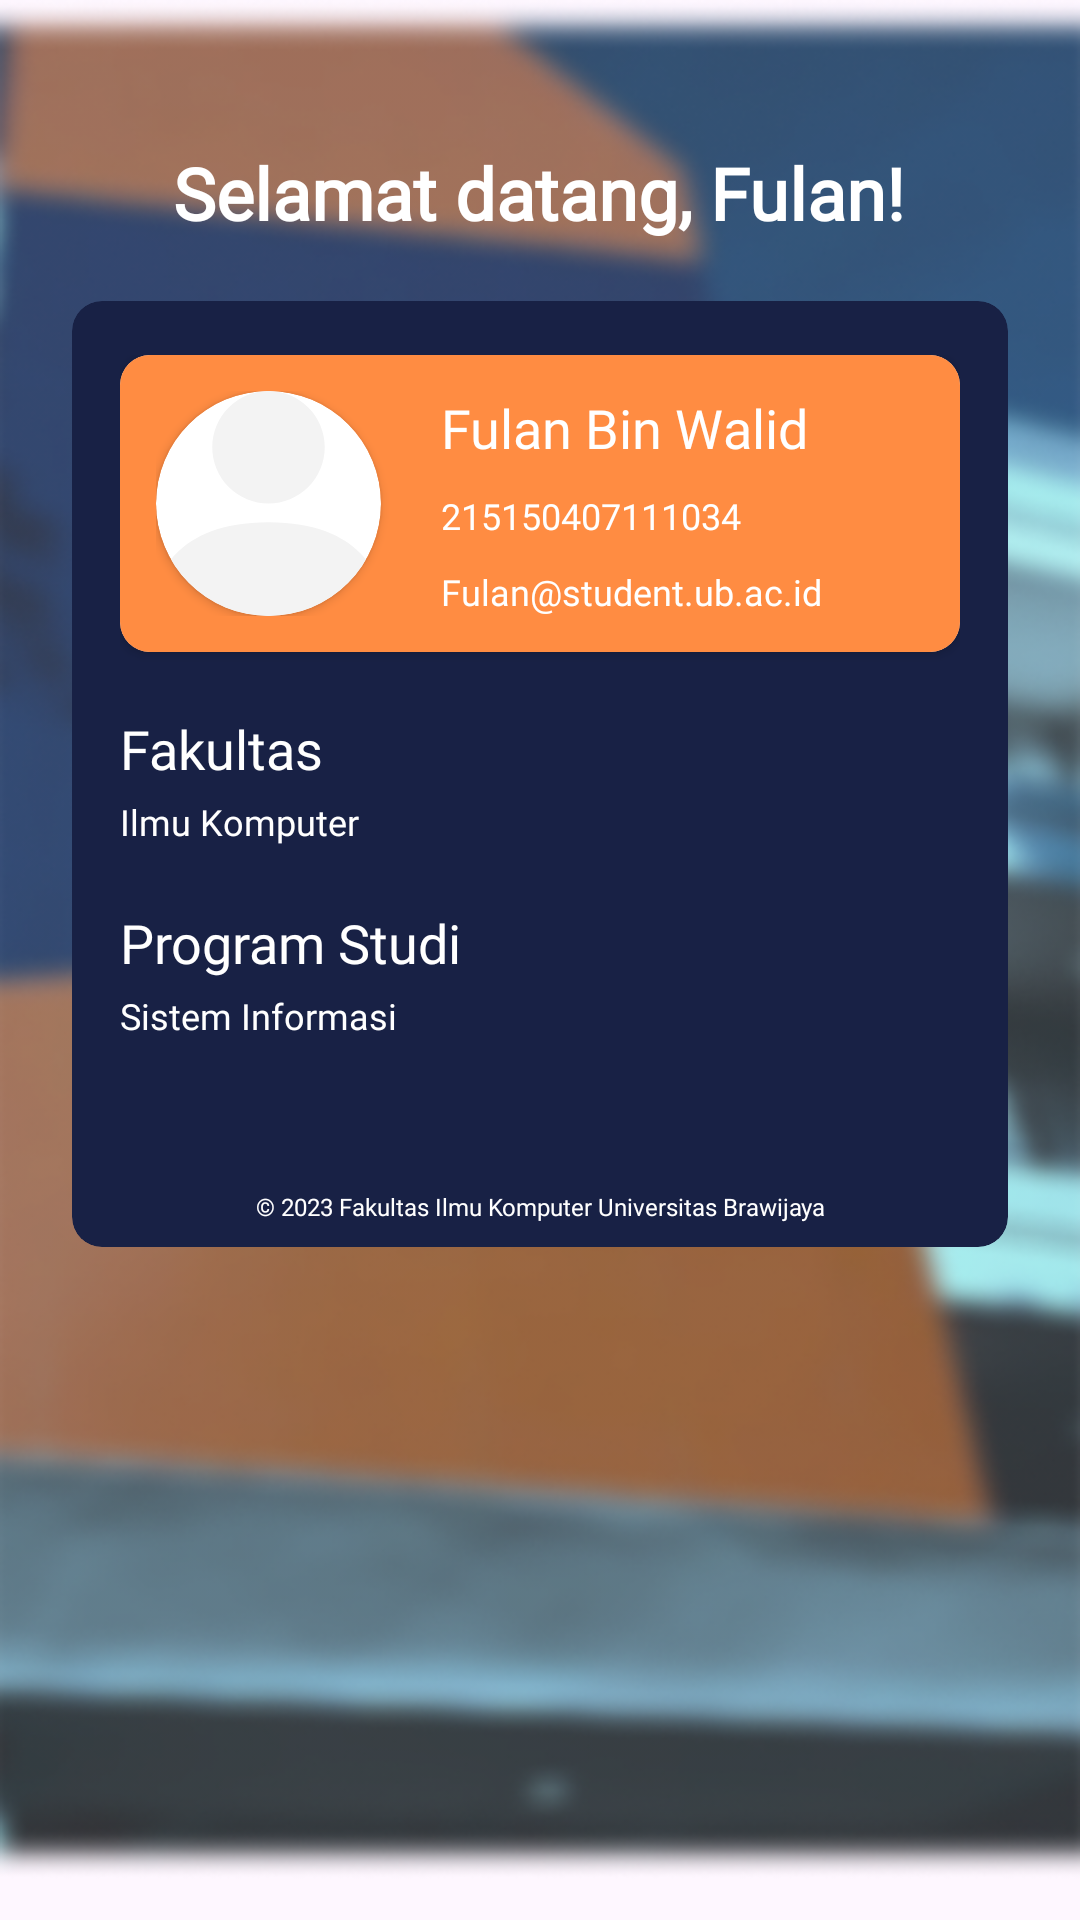

Screen size 1080w x 1920h. Icon name, then its center in pixels as (x=x, y=y):
profile: (x=268, y=503)
